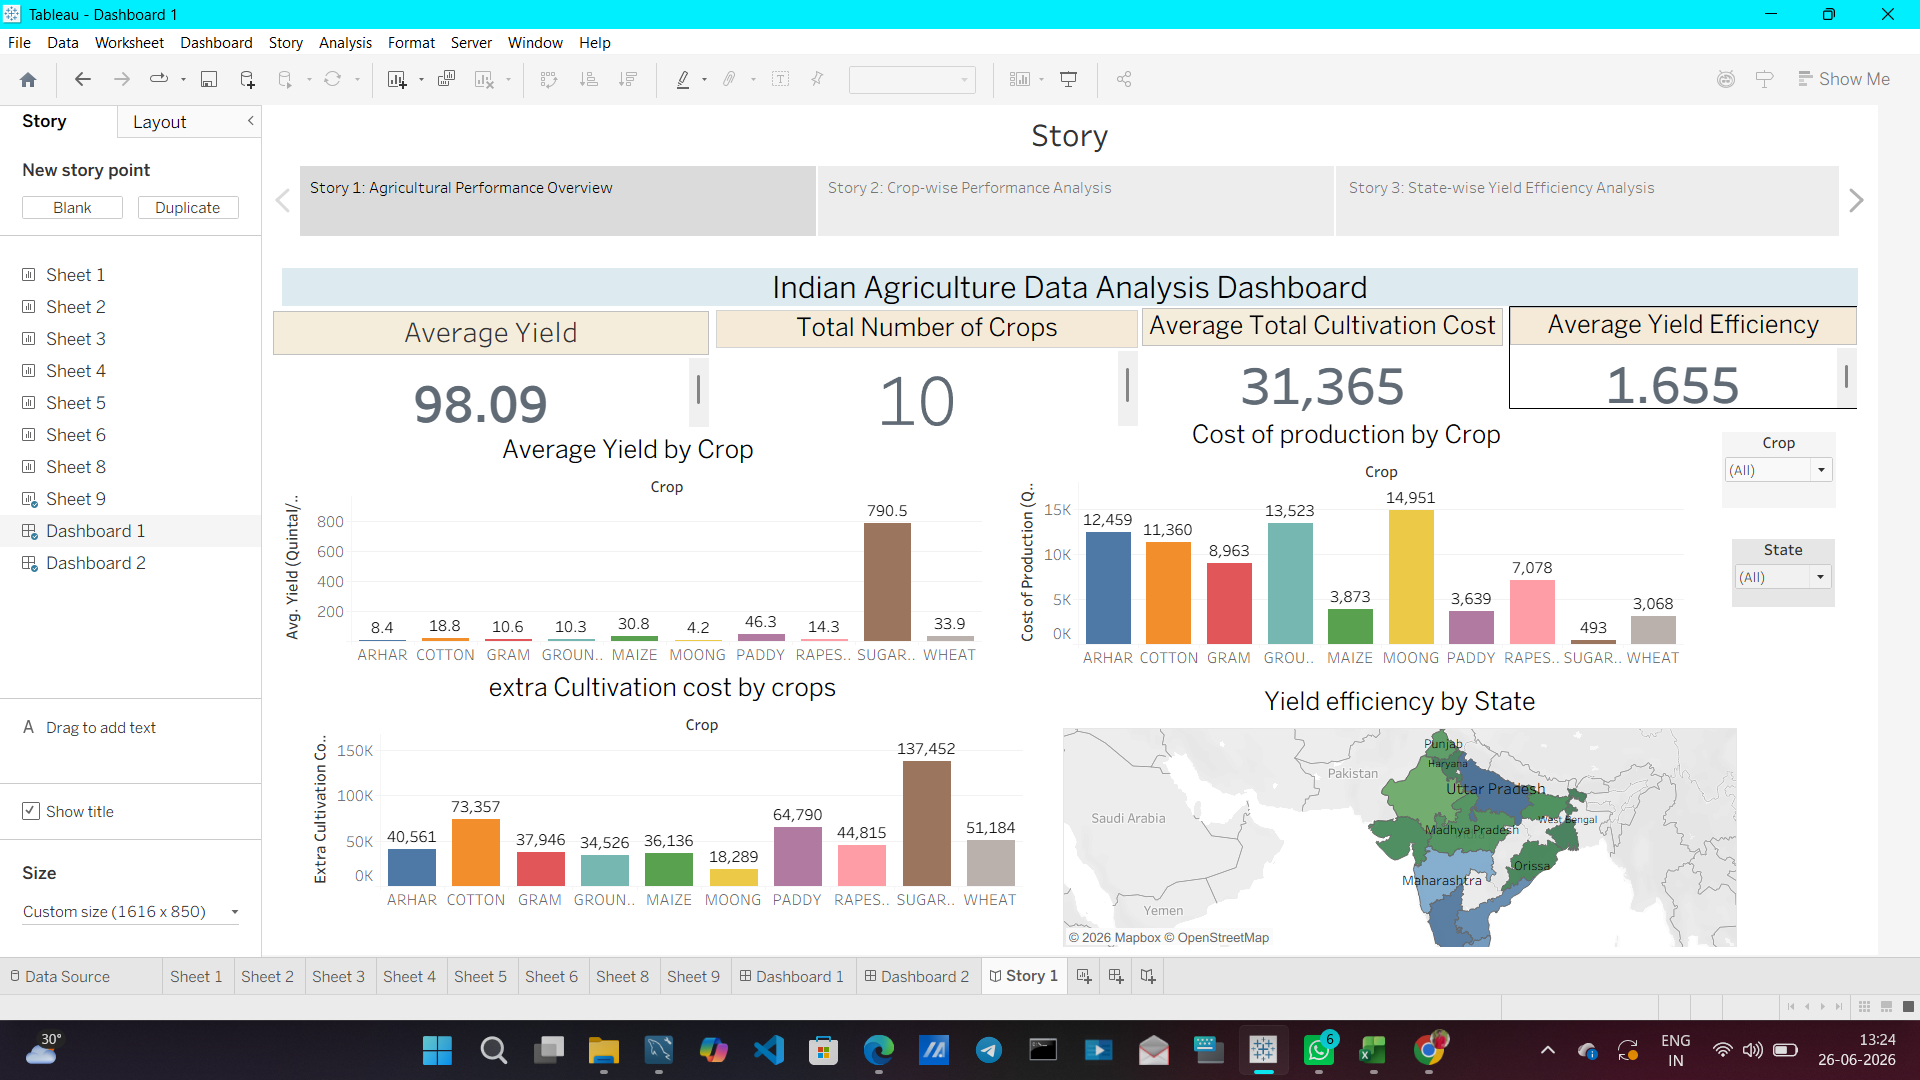

Layout of this report page (visuals, bound fields, positions):
{"tool":"tableau","page":{"name":"Dashboard 1","canvas":[1000,1000],"units":"permille","ordinal":0},"visuals":[{"type":"title","box":[4.8,9.4,990.3,54.1]},{"type":"worksheet","title":"Sheet 3","mark":"Automatic","box":[774.3,72.9,217.9,149.2]},{"type":"worksheet","title":"Sheet 2","mark":"Automatic","box":[545,75.2,225.7,158.6]},{"type":"worksheet","title":"Sheet 4","mark":"Automatic","box":[278.8,78.7,263.7,168]},{"type":"worksheet","title":"Sheet 1","mark":"Automatic","box":[1.8,79.9,272.8,168]},{"type":"worksheet","title":"Sheet 6","mark":"Automatic","rows":["Cost of Production (Quintal)"],"cols":["Crop"],"box":[461.7,228,421.9,390.1]},{"type":"worksheet","title":"Sheet 5","mark":"Automatic","rows":["Yield (Quintal/ Hectare)"],"cols":["Crop"],"box":[2.4,250.3,442.4,364.3]},{"type":"filter","title":"Sheet 5","param":"[federated.0f91u5k0mcc3om15cgkbn1qi5rqg].[none:Crop:nk]","box":[907.7,255,71.2,109.3]},{"type":"filter","title":"Sheet 9","param":"[federated.0f91u5k0mcc3om15cgkbn1qi5rqg].[none:State:nk]","box":[913.7,410.1,64.6,98.7]},{"type":"worksheet","title":"Sheet 8","mark":"Bar","rows":["Extra Cultivation Cost(Hector)"],"cols":["Crop"],"box":[19.9,594.6,450.8,374.9]},{"type":"worksheet","title":"Sheet 9","mark":"Multipolygon","box":[495.5,614.6,421.2,386.6]}]}

Visuals, with their boxes on the dashboard's canvas, which has no fixed pixel size, in thousandths of its width and height (x1, y1, x2, y2). These are canvas units, not pixel positions in the 1920x1080 screenshot, which may show the page scaled, cropped or inside an application window:
title: x1=5 y1=9 x2=995 y2=64
"Sheet 3" worksheet: x1=774 y1=73 x2=992 y2=222
"Sheet 2" worksheet: x1=545 y1=75 x2=771 y2=234
"Sheet 4" worksheet: x1=279 y1=79 x2=542 y2=247
"Sheet 1" worksheet: x1=2 y1=80 x2=275 y2=248
"Sheet 6" worksheet: x1=462 y1=228 x2=884 y2=618
"Sheet 5" worksheet: x1=2 y1=250 x2=445 y2=615
"Sheet 5" filter: x1=908 y1=255 x2=979 y2=364
"Sheet 9" filter: x1=914 y1=410 x2=978 y2=509
"Sheet 8" worksheet (Bar marks): x1=20 y1=595 x2=471 y2=970
"Sheet 9" worksheet (Multipolygon marks): x1=496 y1=615 x2=917 y2=1001
